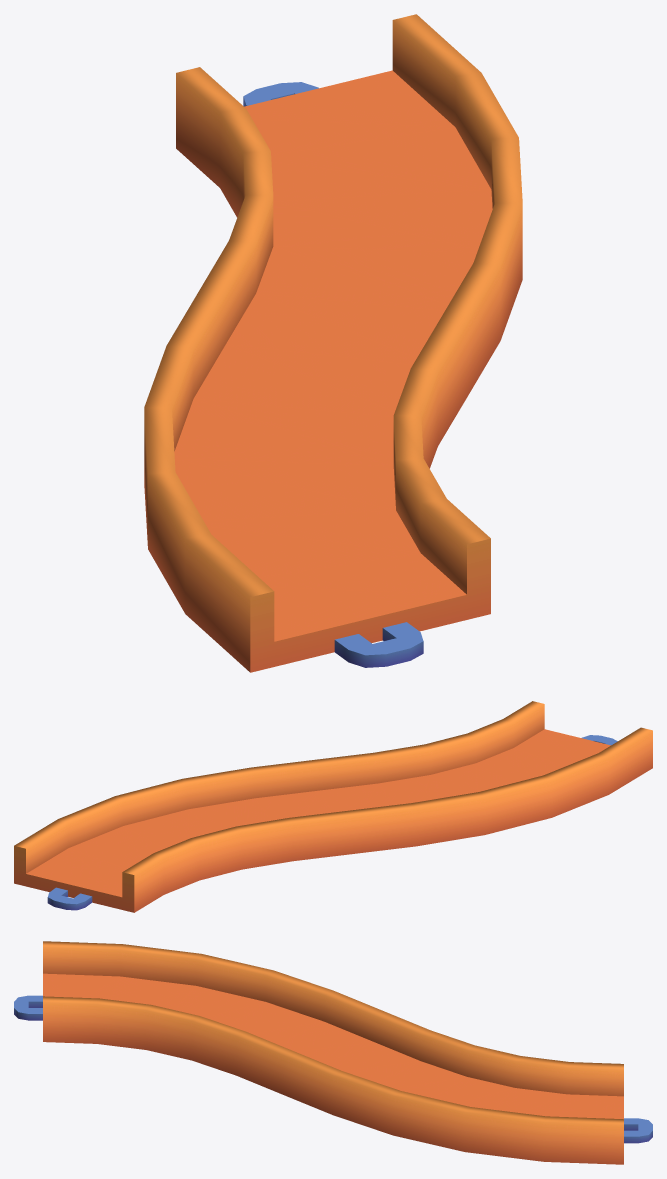
Rendered from track-narrow-curve.glb.
3 renders of one model, top to bottom at view 1: azimuth 30°, elevation 25°; view 2: azimuth 150°, elevation 25°; view 3: azimuth 270°, elevation 25°, orthographic. The views are drawn at different scales.
Visible parts, largest first — view 1: track-narrow-curve; view 2: track-narrow-curve; view 3: track-narrow-curve.
Part boxes in pixels (box(x1,y1,x2,y2)): track-narrow-curve: box(144, 14, 522, 672); track-narrow-curve: box(14, 701, 652, 912); track-narrow-curve: box(14, 941, 652, 1164).
Bounding box in the file's own units: 3 × 0.3 × 4.4.
1 material, 1 textured.
